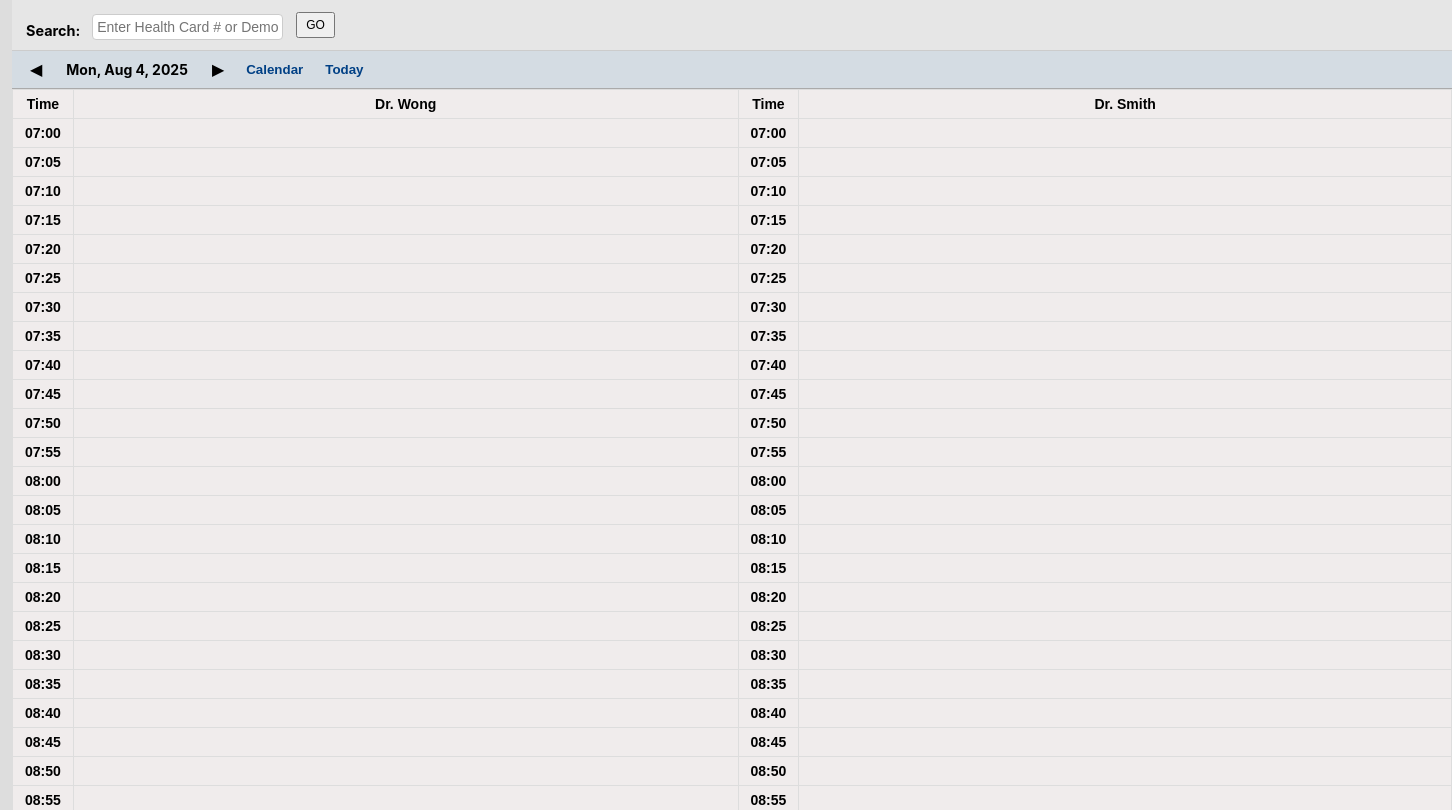
Scenario: T8: date navigation updates URL (?date=) and fetches appointments
Expected: the column heading "Dr. Wong" is shown, [73,90,738,118]
# click ► next day
Click the button "▶": (218, 70) [206,59,230,80]
(page scrolled)
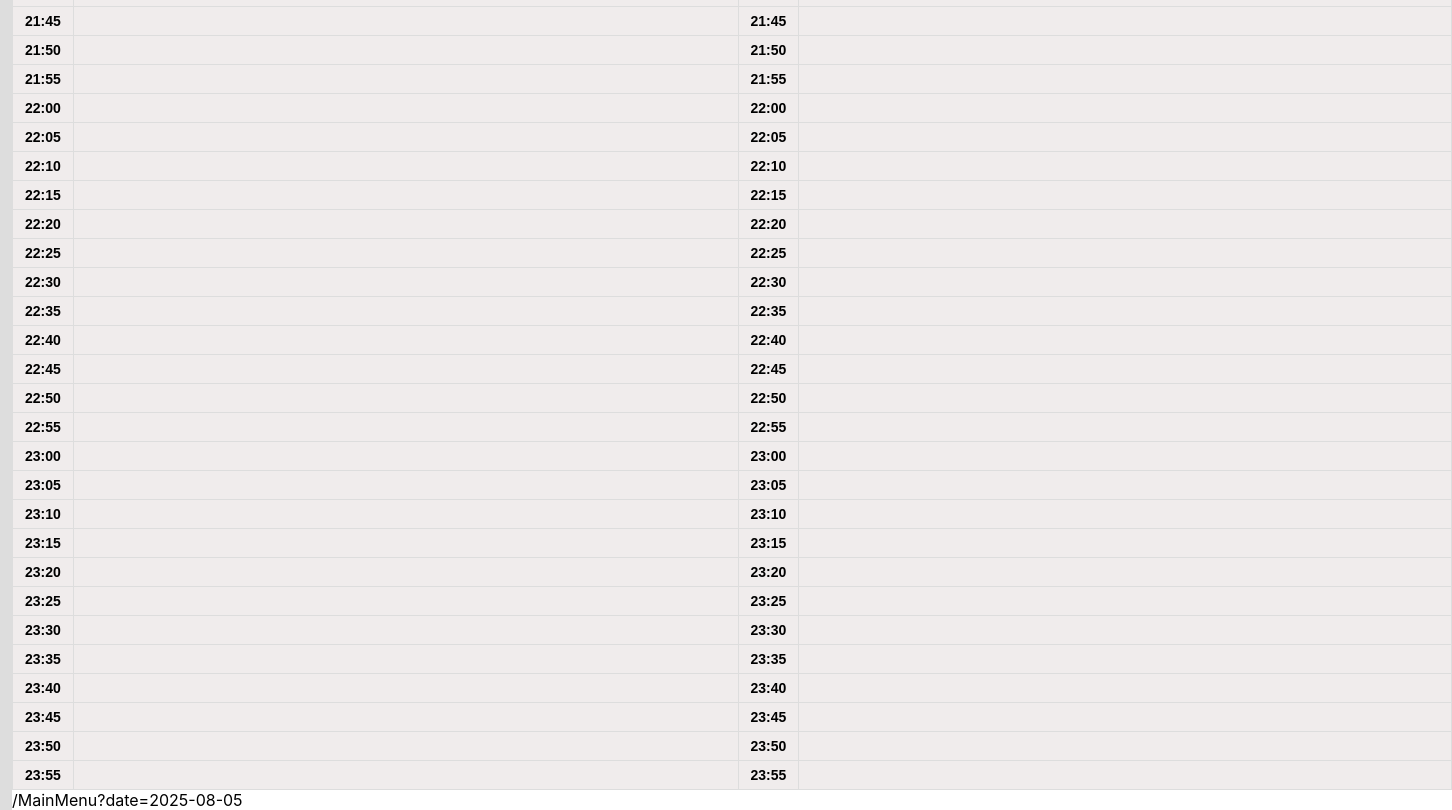
Now the text with test id "loc" shows "?date=2025-08-05", box [97,790,243,809]
